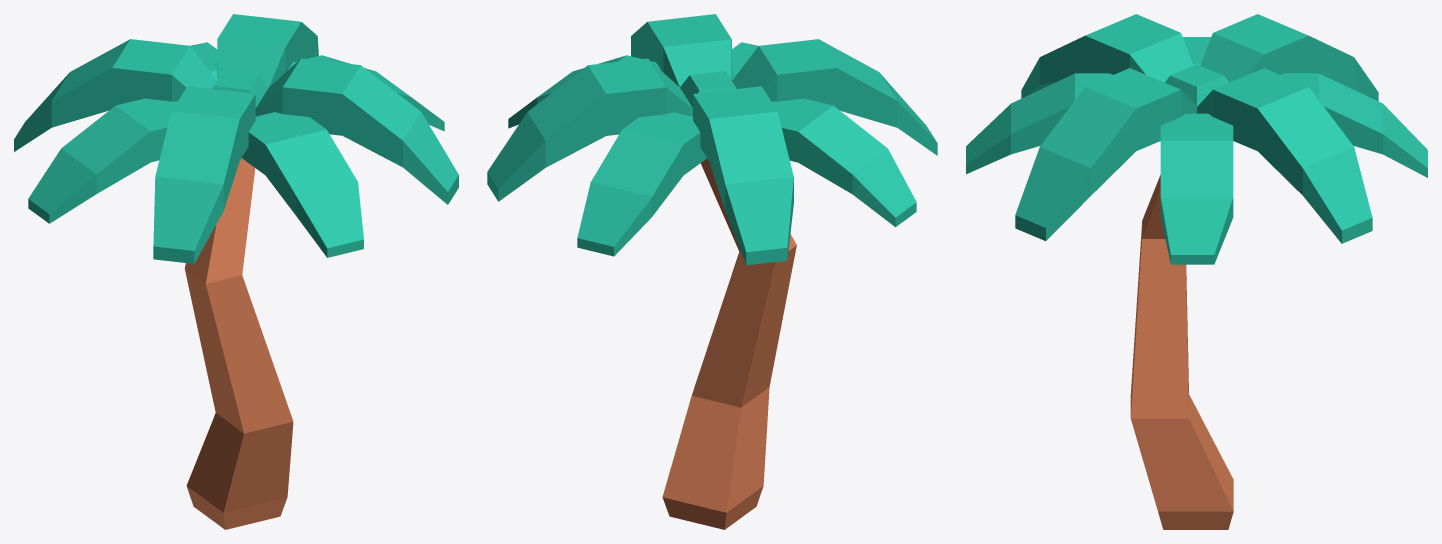
The model's file is tree_palmDetailedShort.dae.
3 renders of one model, left to right at view 1: azimuth 30°, elevation 25°; view 2: azimuth 150°, elevation 25°; view 3: azimuth 270°, elevation 25°, orthographic. The views are drawn at different scales.
Visible parts, largest first — view 1: leafs (×2), tree_palmDetailedShort; view 2: leafs (×2), tree_palmDetailedShort; view 3: leafs (×2), tree_palmDetailedShort.
Boxes of the visible parts, left/top/right/bottom form: leafs (×2): left=14, top=14, right=458, bottom=263; tree_palmDetailedShort: left=184, top=158, right=293, bottom=529; leafs (×2): left=487, top=14, right=937, bottom=265; tree_palmDetailedShort: left=662, top=158, right=796, bottom=529; leafs (×2): left=966, top=14, right=1427, bottom=264; tree_palmDetailedShort: left=1130, top=175, right=1233, bottom=529.
Size of the model in its own units: 1.03 by 1.12 by 1.03.
